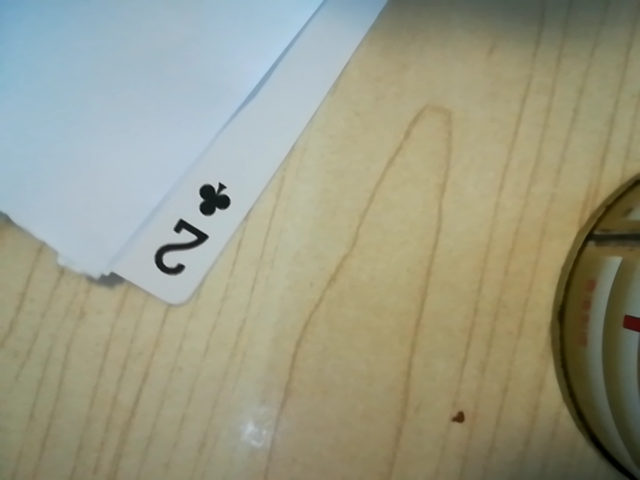mh 2: (132, 171, 242, 292)
